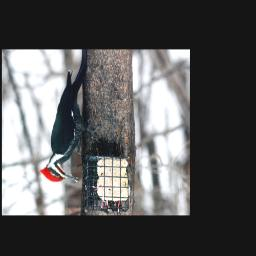Woodpecker: (40, 53, 101, 185)
